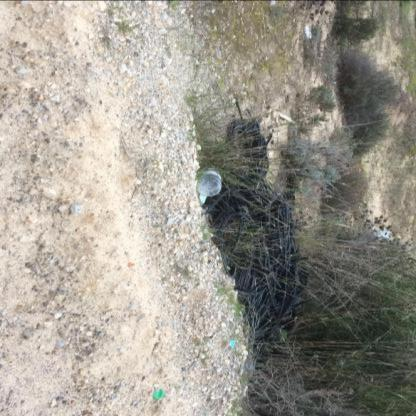Bottle: (153, 388, 164, 400), (230, 339, 235, 347)
Bottle cap: (197, 167, 222, 196)
Unlabeled litter: (199, 194, 207, 204)
